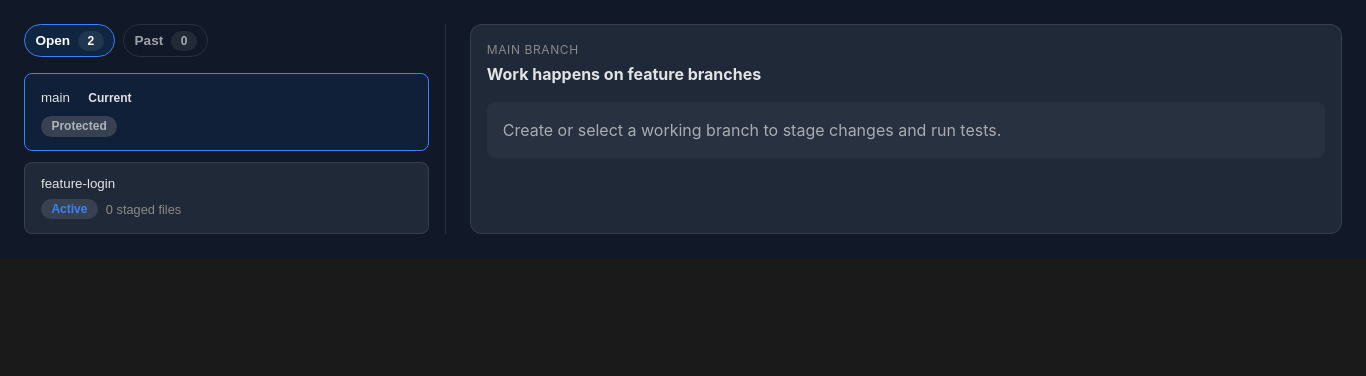
BranchTab › disables Begin testing CTA when branch has no staged changes
Expected: the button with test id "branch-list-item-main" is shown, [24,73,429,151]
Step 1. Click the button with test id "branch-list-item-feature-login" → (78, 184), box [24,162,429,234]
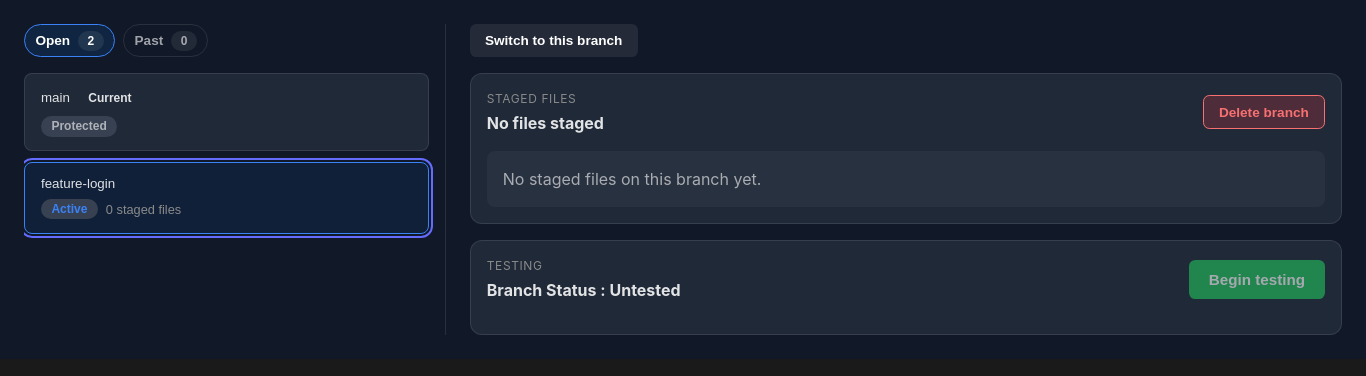
Result: the button with test id "branch-begin-testing" is disabled at [1189,260,1325,299]
